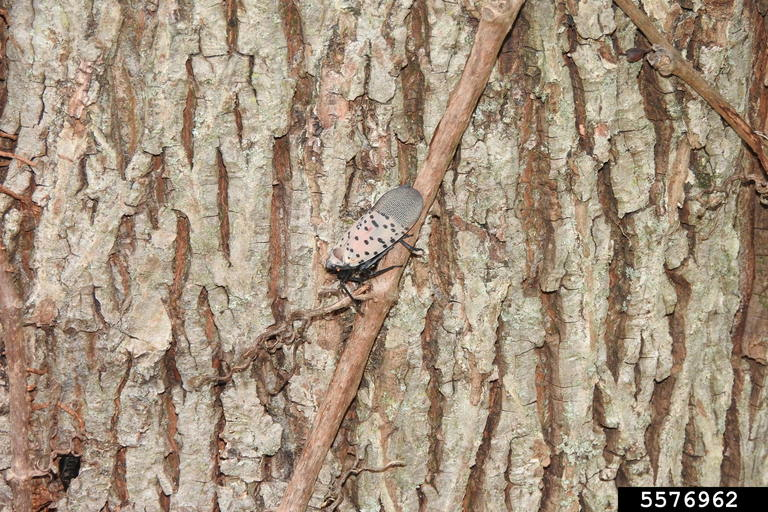adult: (291, 258, 432, 344)
